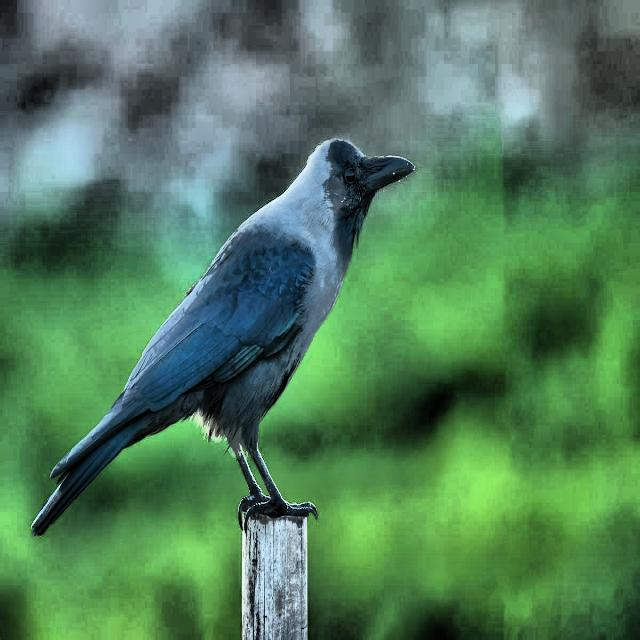crow: (25, 126, 420, 557)
